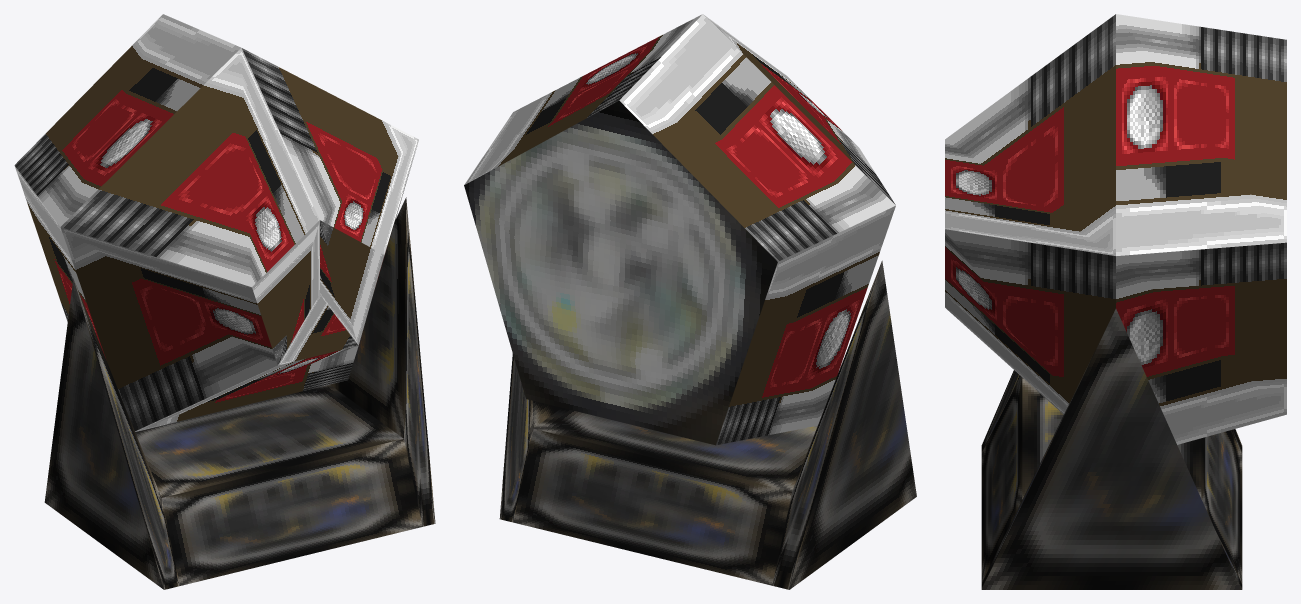
3 views of the same model, side by side, from view 1: azimuth 30°, elevation 25°; view 2: azimuth 150°, elevation 25°; view 3: azimuth 270°, elevation 25° (orthographic). The views are drawn at different scales.
Parts seen in each view (by area): view 1: prim151-search light main; view 2: prim151-search light main; view 3: prim151-search light main.
Part boxes in pixels (<box>): prim151-search light main: <box>14,14,435,589</box>; prim151-search light main: <box>464,14,916,589</box>; prim151-search light main: <box>945,14,1286,589</box>.
Size of the model in its own units: 111 by 137 by 84.
3 materials, 3 textured.
